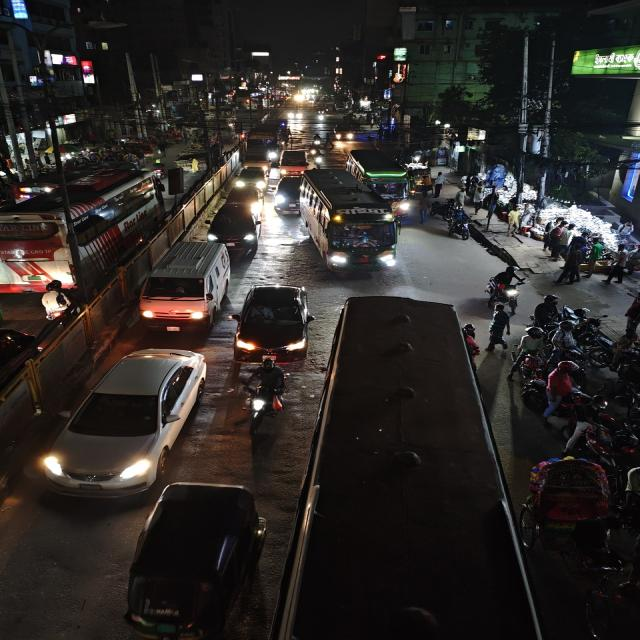bicycle: (442, 200, 476, 242)
bus: (289, 289, 519, 640), (0, 164, 163, 293), (298, 168, 402, 276), (346, 147, 414, 197), (244, 122, 288, 166)
car: (44, 344, 213, 500), (138, 238, 234, 326), (232, 280, 317, 364), (205, 200, 262, 248), (273, 174, 300, 217), (278, 148, 310, 176), (235, 165, 268, 192)
cng: (125, 480, 271, 640), (174, 149, 213, 176)
motorcycle: (237, 358, 292, 426), (36, 282, 78, 324), (484, 264, 525, 307), (441, 200, 476, 242), (310, 133, 325, 149)
pedestrian: (558, 242, 584, 284), (488, 304, 512, 348), (532, 294, 561, 330)
pickup_van: (333, 120, 356, 144)
rickshaw: (518, 455, 620, 543)
